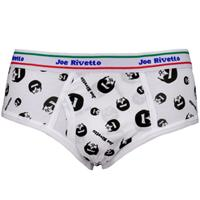mutande: (1, 48, 198, 169)
